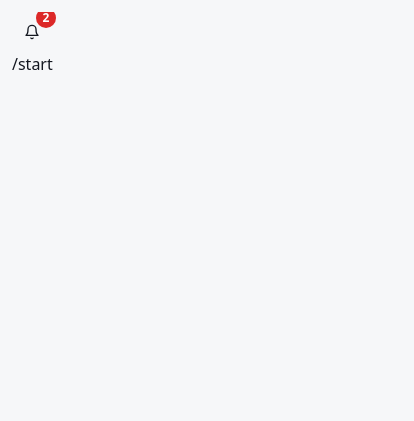
Test: NotificationBell interactions › routes the same event to the employee surface for employees
The image size is (414, 421).
Click the button named "notifications" at {"x": 32, "y": 32}, box [12,12,52,52]
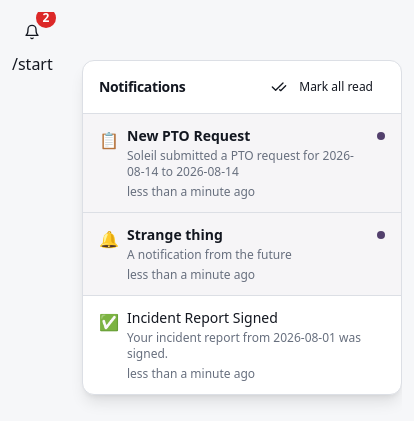
Click the text "New PTO Request" at {"x": 189, "y": 136}, box [127,126,250,145]
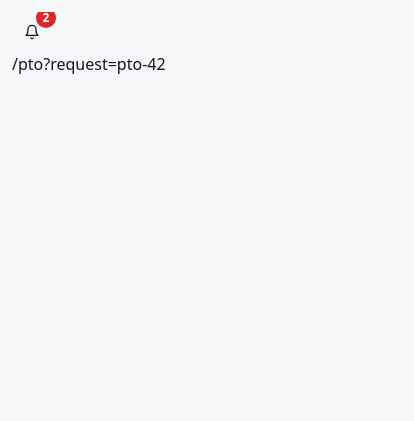
Expected: the text with test id "location" reads "/pto?request=pto-42", [12,53,166,75]
